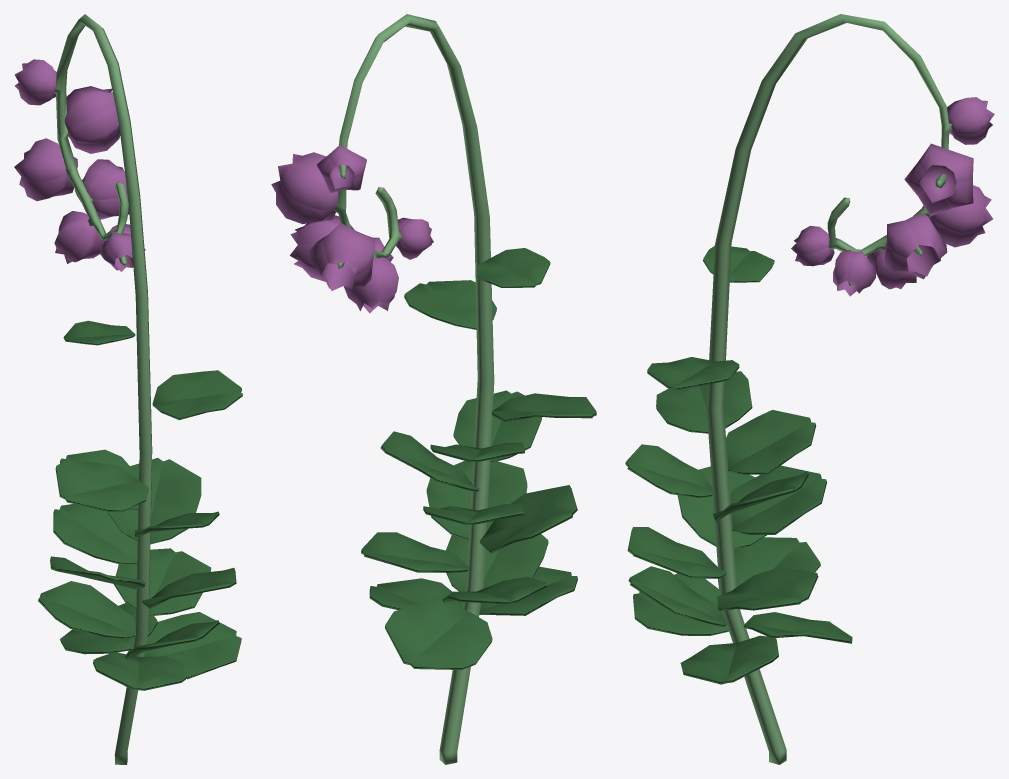
Rendered from ClearCupPlant.fbx.
3 views of the same model, side by side, from view 1: azimuth 30°, elevation 25°; view 2: azimuth 150°, elevation 25°; view 3: azimuth 270°, elevation 25° (orthographic). The views are drawn at different scales.
Visible parts, largest first — view 1: pasted__pasted__pasted__pasted__pasted__pasted__pasted__past (×12), pCube1, pasted__pasted__pasted__pasted__pasted__pSphere1 (×2), pasted__pasted__pasted__pasted__pasted__pasted__pasted__pCyl (×2), pasted__pasted__pasted__pasted__pSphere1 (×2), pasted__pasted__pasted__pasted__pasted__pasted__pCylinder2, pasted__pasted__pasted__pSphere1, pasted__pasted__pSphere1; view 2: pasted__pasted__pasted__pasted__pasted__pasted__pasted__past (×12), pCube1, pasted__pasted__pasted__pasted__pasted__pSphere1 (×2), pasted__pasted__pasted__pasted__pSphere1 (×2), pasted__pasted__pasted__pasted__pasted__pasted__pasted__pCyl (×2), pasted__pasted__pasted__pasted__pasted__pasted__pCylinder2, pasted__pasted__pasted__pSphere1, pasted__pasted__pSphere1; view 3: pasted__pasted__pasted__pasted__pasted__pasted__pasted__past (×12), pCube1, pasted__pasted__pasted__pasted__pasted__pasted__pasted__pCyl (×2), pasted__pasted__pasted__pasted__pasted__pSphere1 (×2), pasted__pasted__pasted__pasted__pSphere1 (×3), pasted__pasted__pasted__pSphere1, pasted__pasted__pasted__pasted__pasted__pasted__pCylinder2, pasted__pasted__pSphere1.
Boxes of the visible parts, x1,y1,x2,y2 form: pasted__pasted__pasted__pasted__pasted__pasted__pasted__past (×12): (38, 320, 242, 654); pCube1: (54, 14, 152, 764); pasted__pasted__pasted__pasted__pasted__pSphere1 (×2): (14, 59, 128, 153); pasted__pasted__pasted__pasted__pasted__pasted__pasted__pCyl (×2): (125, 612, 241, 679); pasted__pasted__pasted__pasted__pSphere1 (×2): (14, 138, 103, 263); pasted__pasted__pasted__pasted__pasted__pasted__pCylinder2: (93, 652, 185, 690); pasted__pasted__pasted__pSphere1: (74, 159, 129, 219); pasted__pasted__pSphere1: (100, 232, 133, 271); pasted__pasted__pasted__pasted__pasted__pasted__pasted__past (×12): (361, 248, 596, 669); pCube1: (333, 14, 494, 764); pasted__pasted__pasted__pasted__pasted__pSphere1 (×2): (271, 144, 366, 224); pasted__pasted__pasted__pasted__pSphere1 (×2): (309, 223, 398, 313); pasted__pasted__pasted__pasted__pasted__pasted__pasted__pCyl (×2): (369, 534, 548, 609); pasted__pasted__pasted__pasted__pasted__pasted__pCylinder2: (479, 566, 577, 615); pasted__pasted__pasted__pSphere1: (290, 215, 354, 281); pasted__pasted__pSphere1: (396, 217, 433, 259); pasted__pasted__pasted__pasted__pasted__pasted__pasted__past (×12): (625, 245, 852, 643); pCube1: (706, 14, 952, 764); pasted__pasted__pasted__pasted__pasted__pasted__pasted__pCyl (×2): (628, 566, 778, 684); pasted__pasted__pasted__pasted__pasted__pSphere1 (×2): (904, 97, 994, 216); pasted__pasted__pasted__pasted__pSphere1 (×3): (833, 185, 992, 296); pasted__pasted__pasted__pSphere1: (882, 213, 947, 279); pasted__pasted__pasted__pasted__pasted__pasted__pCylinder2: (633, 573, 728, 635); pasted__pasted__pSphere1: (791, 225, 834, 266).
Size of the model in its own units: 1.55 by 5.5 by 2.45.
